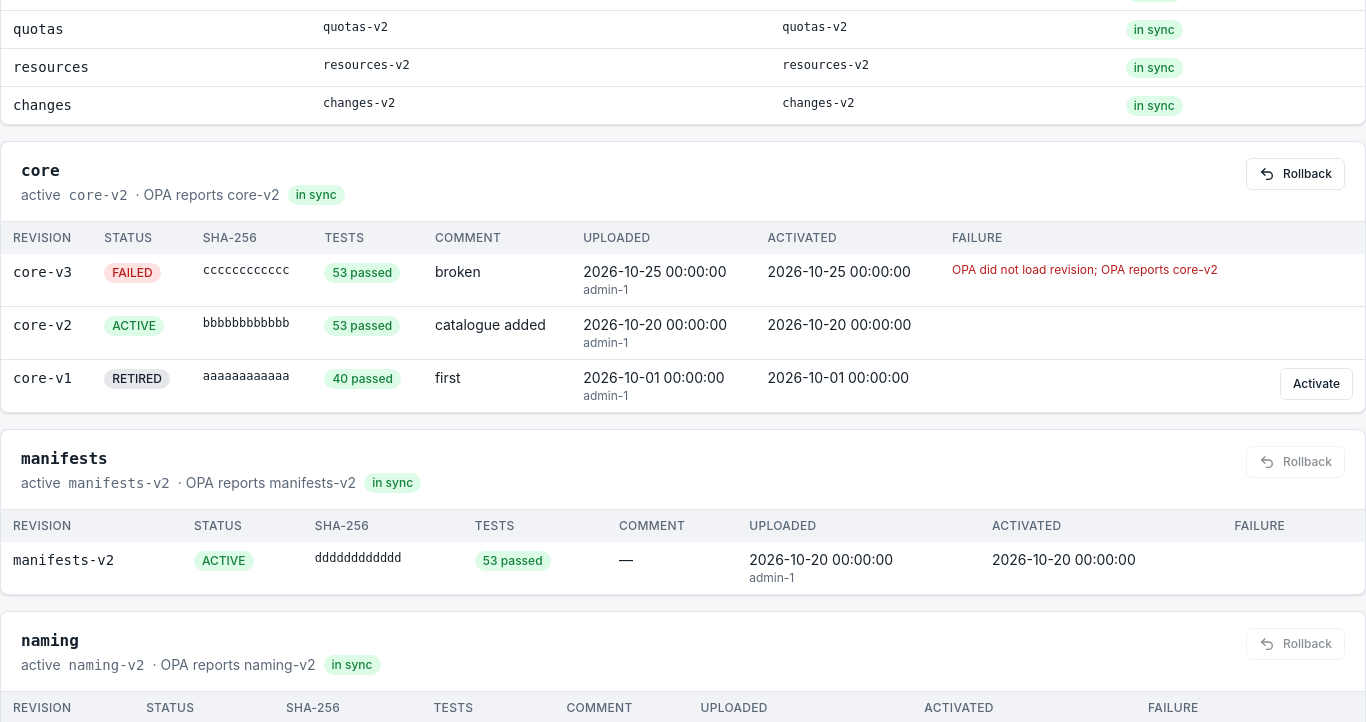
Test: BundlesPage › activates a retired version after confirmation and watches that bundle
(page scrolled)
Click the button "Activate" in the row of "core-v1".
click(1316, 384)  # box 1280,368 -> 1353,400
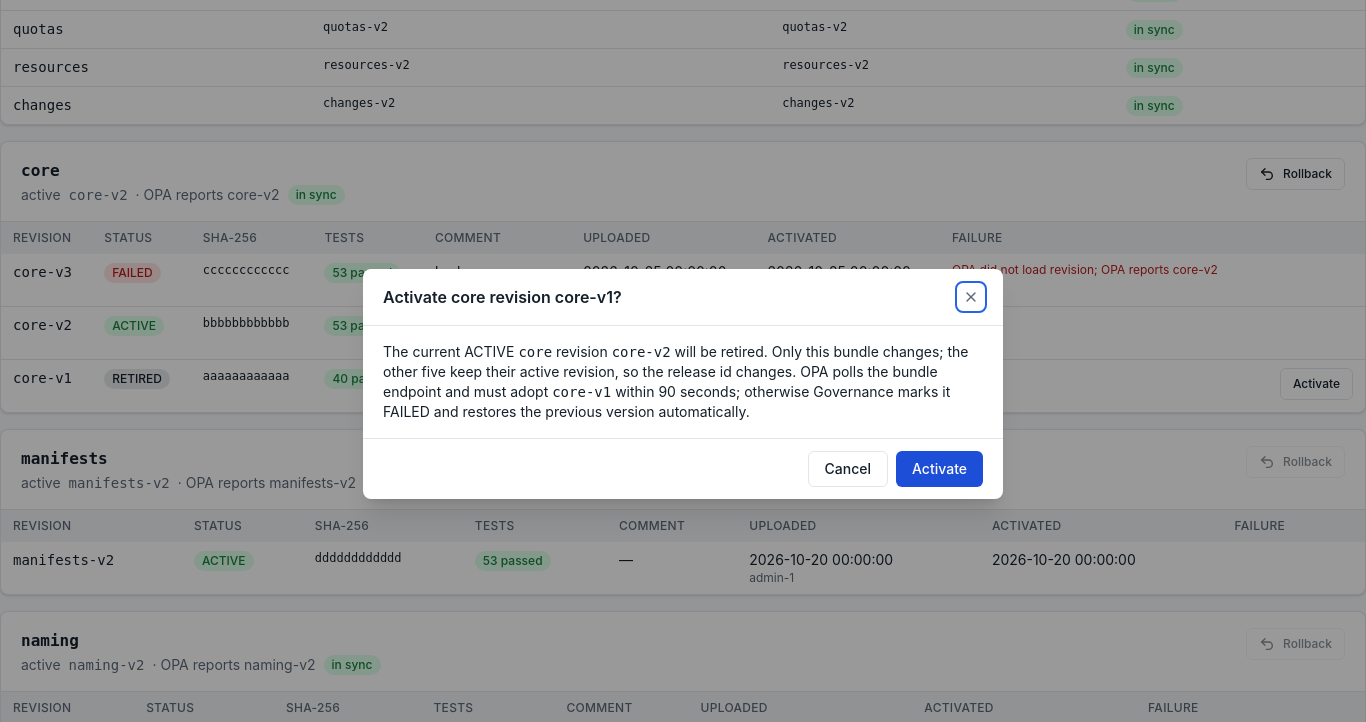
Result: the heading "Activate core revision core-v1?" is shown at 383,285 -> 622,309
Result: the text "within 90 seconds" is shown at 383,383 -> 950,420
Click the button "Activate".
click(940, 469)  # box 896,451 -> 983,487
(page scrolled)
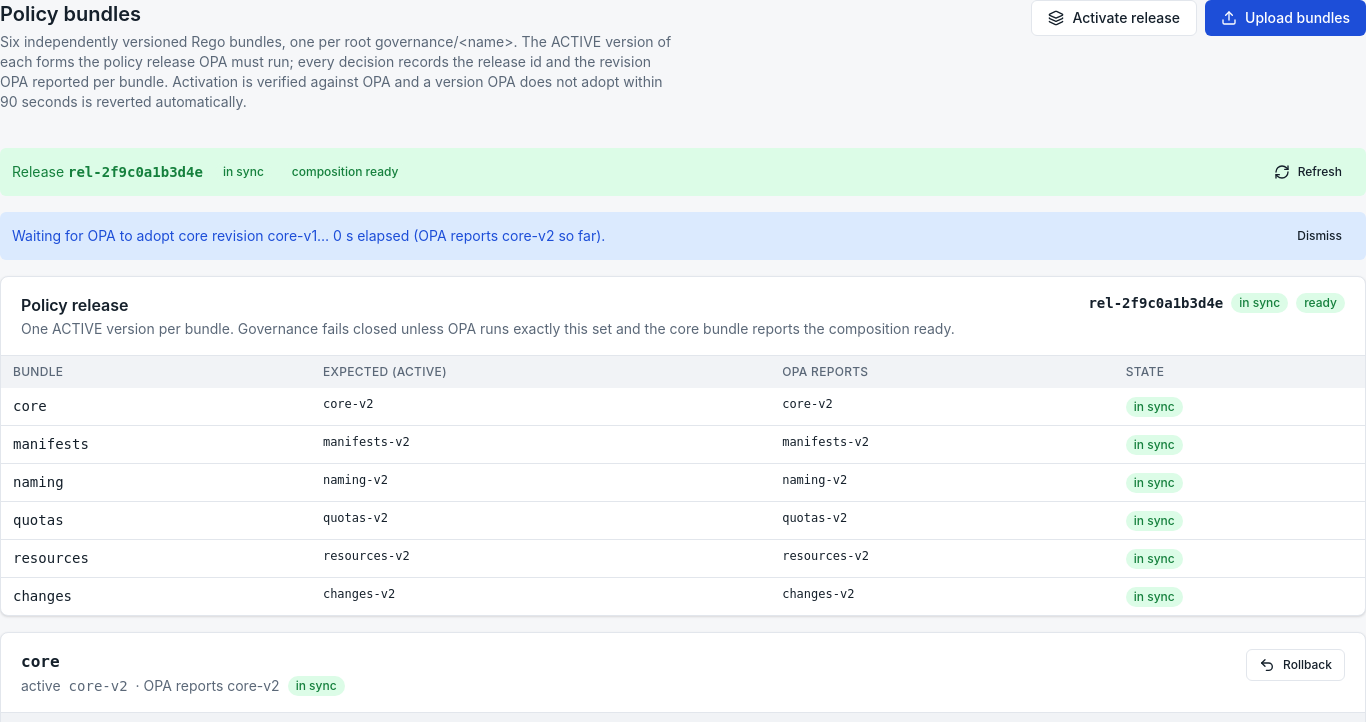
Result: the element with test id "activation-watcher" shows "Waiting for OPA to adopt core revision core-v1" at 12,227 -> 605,244
